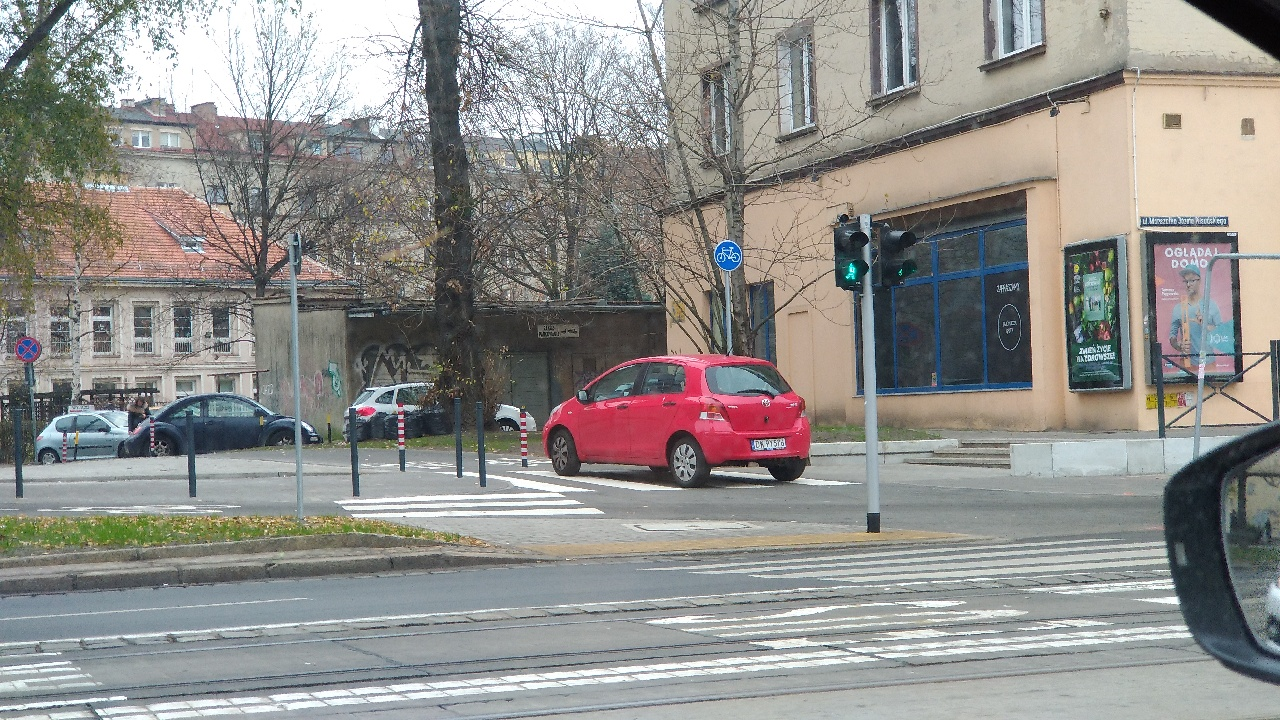B36: (15, 338, 42, 361)
